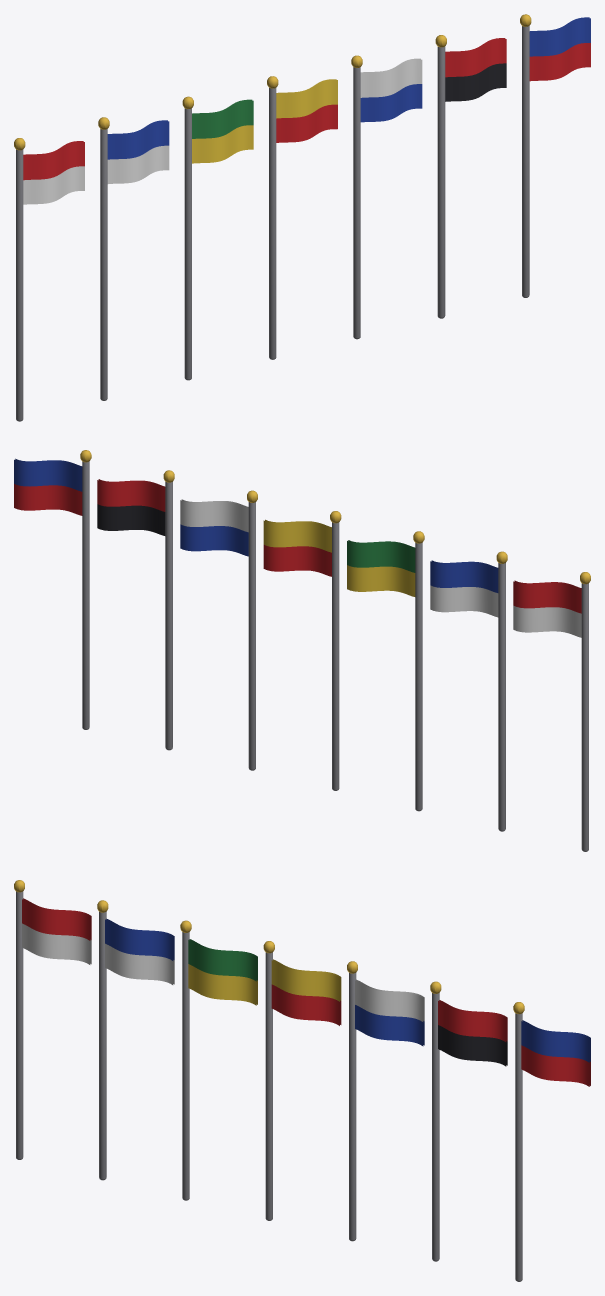
The model's file is un_flags.glb.
3 renders of one model, top to bottom at view 1: azimuth 30°, elevation 25°; view 2: azimuth 150°, elevation 25°; view 3: azimuth 330°, elevation 25°, orthographic.
Visible parts, largest first — view 1: un_flags; view 2: un_flags; view 3: un_flags.
Boxes of the visible parts, left/top/right/bottom form: un_flags: left=14, top=14, right=590, bottom=421; un_flags: left=14, top=450, right=590, bottom=851; un_flags: left=14, top=880, right=590, bottom=1281.
Bounding box in the file's own units: 6.18 × 2.88 × 0.1724.
